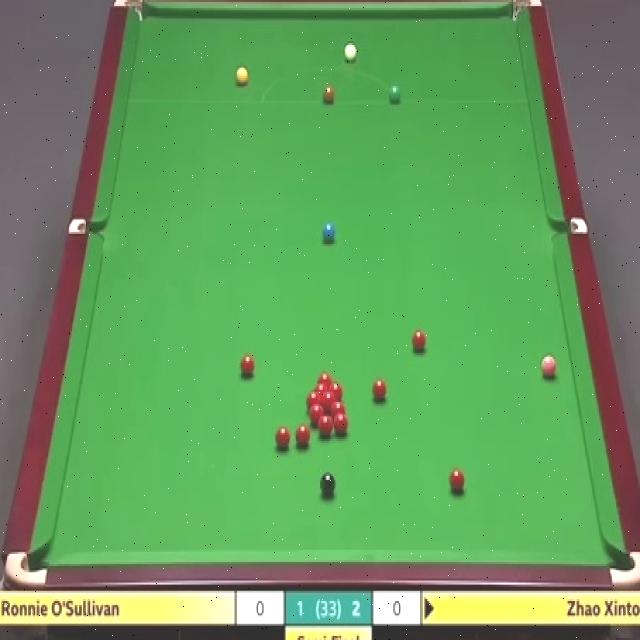black-ball: (320, 473, 336, 497)
blue-ball: (321, 221, 337, 244)
brown-ball: (322, 85, 336, 105)
green-ball: (389, 84, 401, 104)
pink-ball: (540, 353, 558, 382)
red-ball: (410, 330, 428, 356), (449, 468, 466, 494), (277, 423, 293, 447), (371, 378, 386, 403), (318, 414, 334, 436), (295, 426, 310, 449), (240, 354, 254, 378), (334, 412, 348, 436), (309, 404, 324, 423), (327, 382, 343, 399), (329, 401, 346, 415), (322, 392, 336, 406), (306, 391, 321, 404), (317, 371, 333, 383), (314, 383, 331, 391)
white-ball: (342, 40, 358, 63)
yellow-ball: (236, 66, 249, 89)
